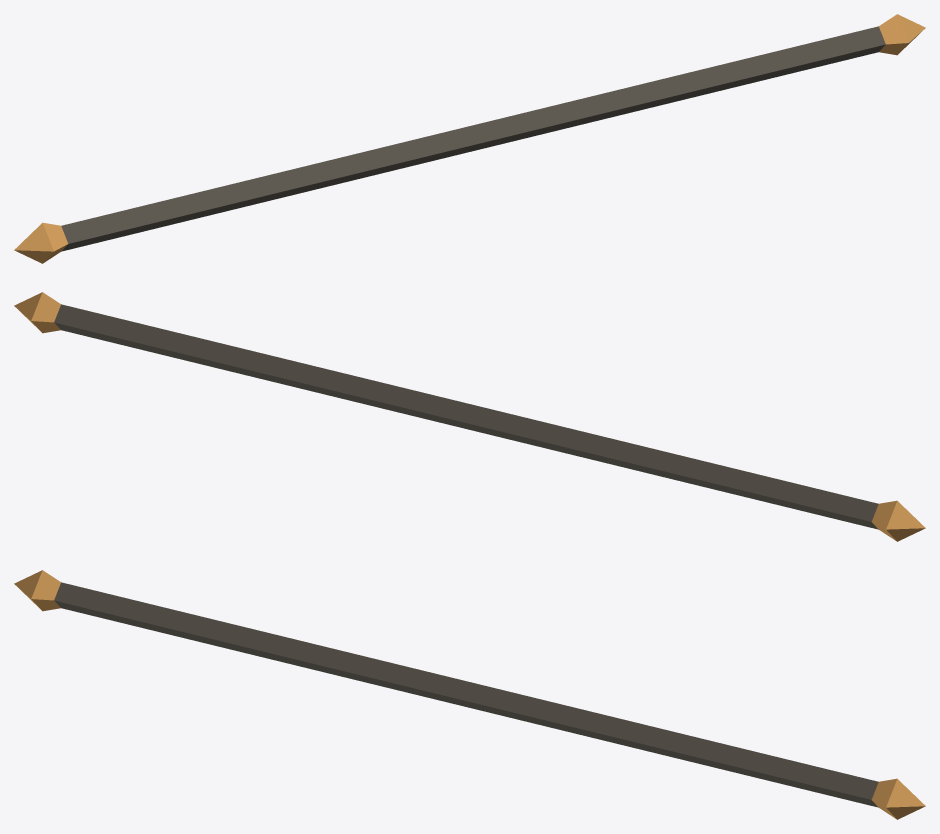
File: SM_Prop_Curtain_Rail_01.fbx
The picture shows the model from 3 angles, top to bottom: view 1: azimuth 30°, elevation 25°; view 2: azimuth 150°, elevation 25°; view 3: azimuth 330°, elevation 25°; orthographic projection.
Parts seen in each view (by area): view 1: SM_Prop_Curtain_Rail_01; view 2: SM_Prop_Curtain_Rail_01; view 3: SM_Prop_Curtain_Rail_01.
Part boxes in pixels (x1,y1,x2,y2): SM_Prop_Curtain_Rail_01: (14,14,925,263); SM_Prop_Curtain_Rail_01: (14,292,925,541); SM_Prop_Curtain_Rail_01: (14,570,925,819).
Bounding box in the file's own units: 332 × 14.33 × 14.33.
